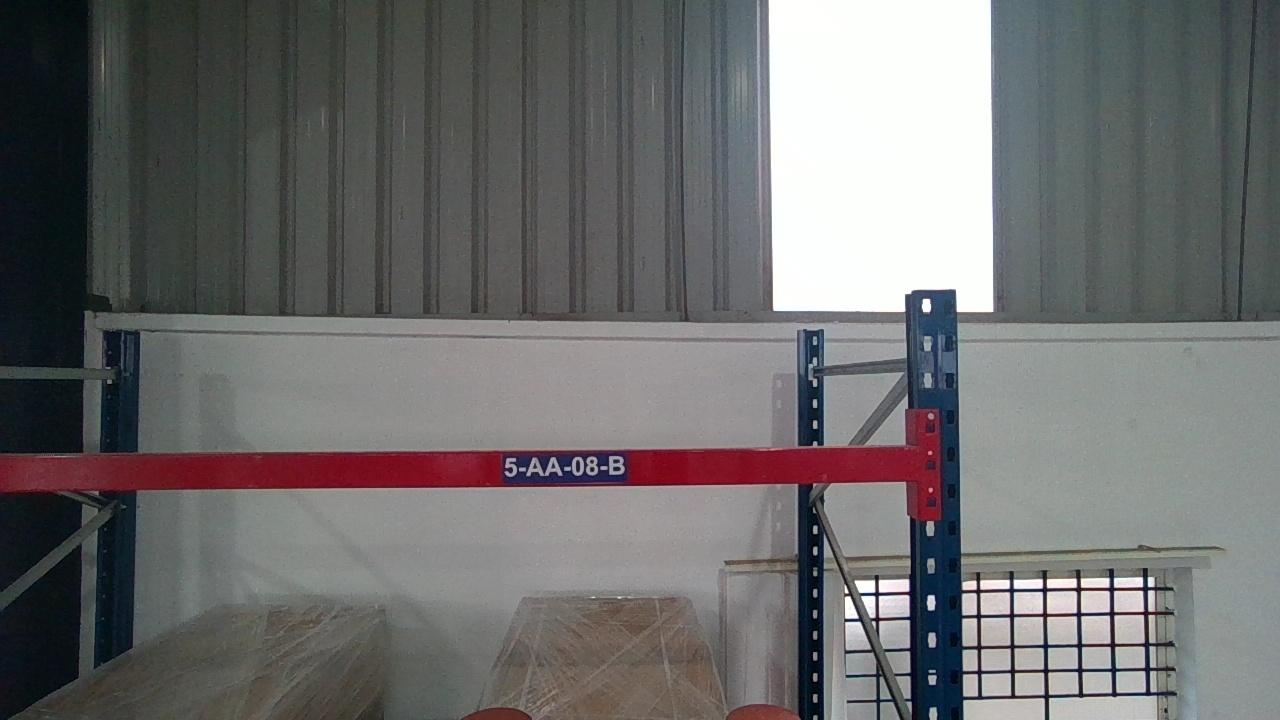h_rack: (1, 448, 919, 489)
